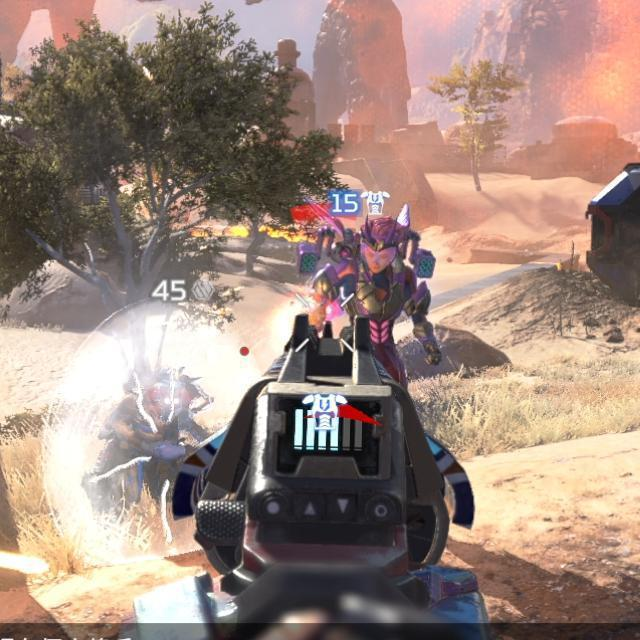avatar: (295, 213, 444, 366)
